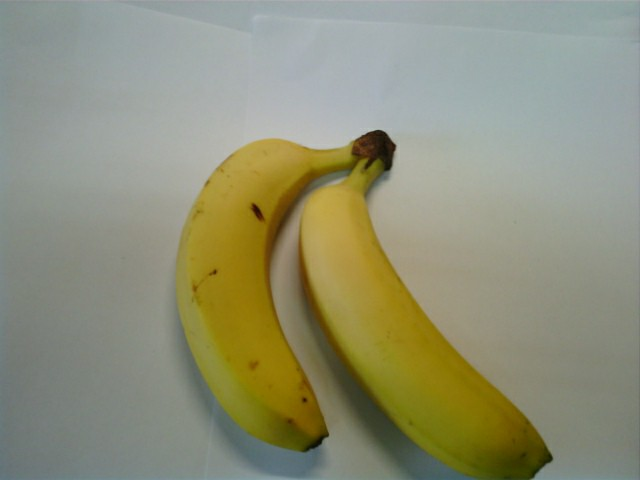fresh_banana: (307, 185, 557, 480)
normal_banana: (173, 136, 325, 451)
